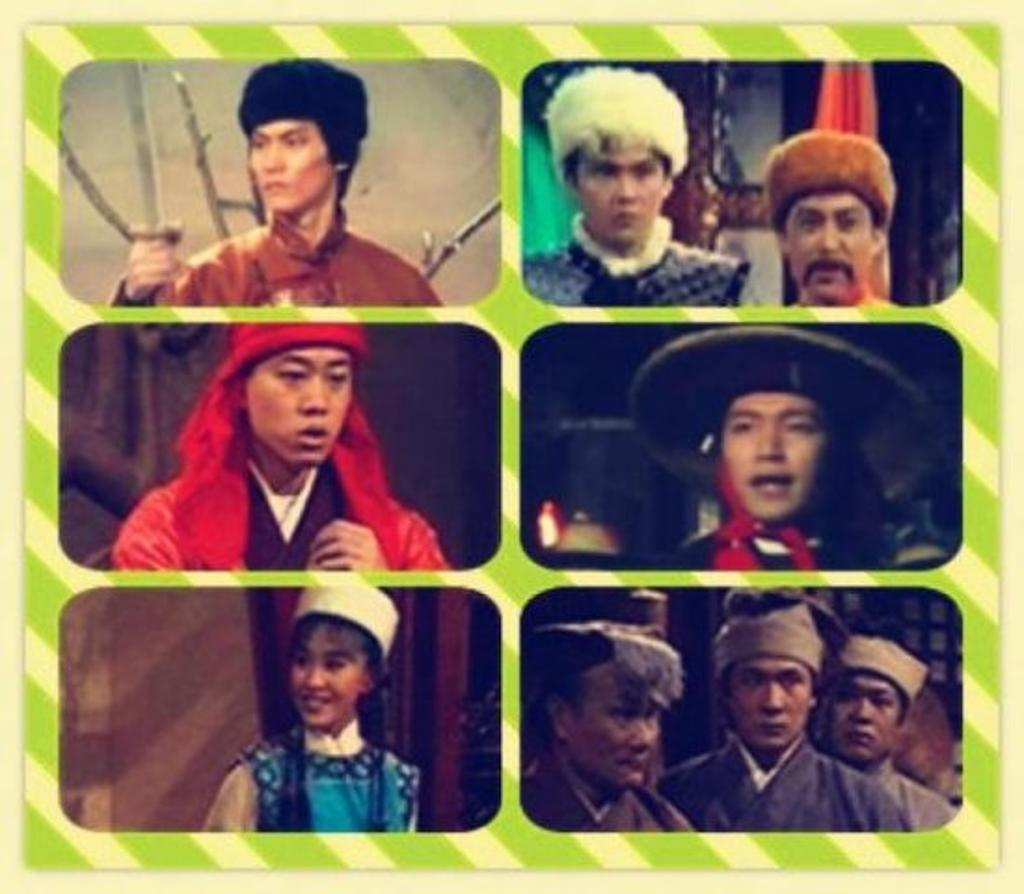face: (720, 380, 828, 520), (248, 322, 352, 462), (790, 180, 874, 296), (586, 120, 664, 236), (596, 664, 668, 786), (732, 646, 810, 756), (248, 108, 322, 214), (830, 656, 896, 752), (294, 630, 360, 724)
